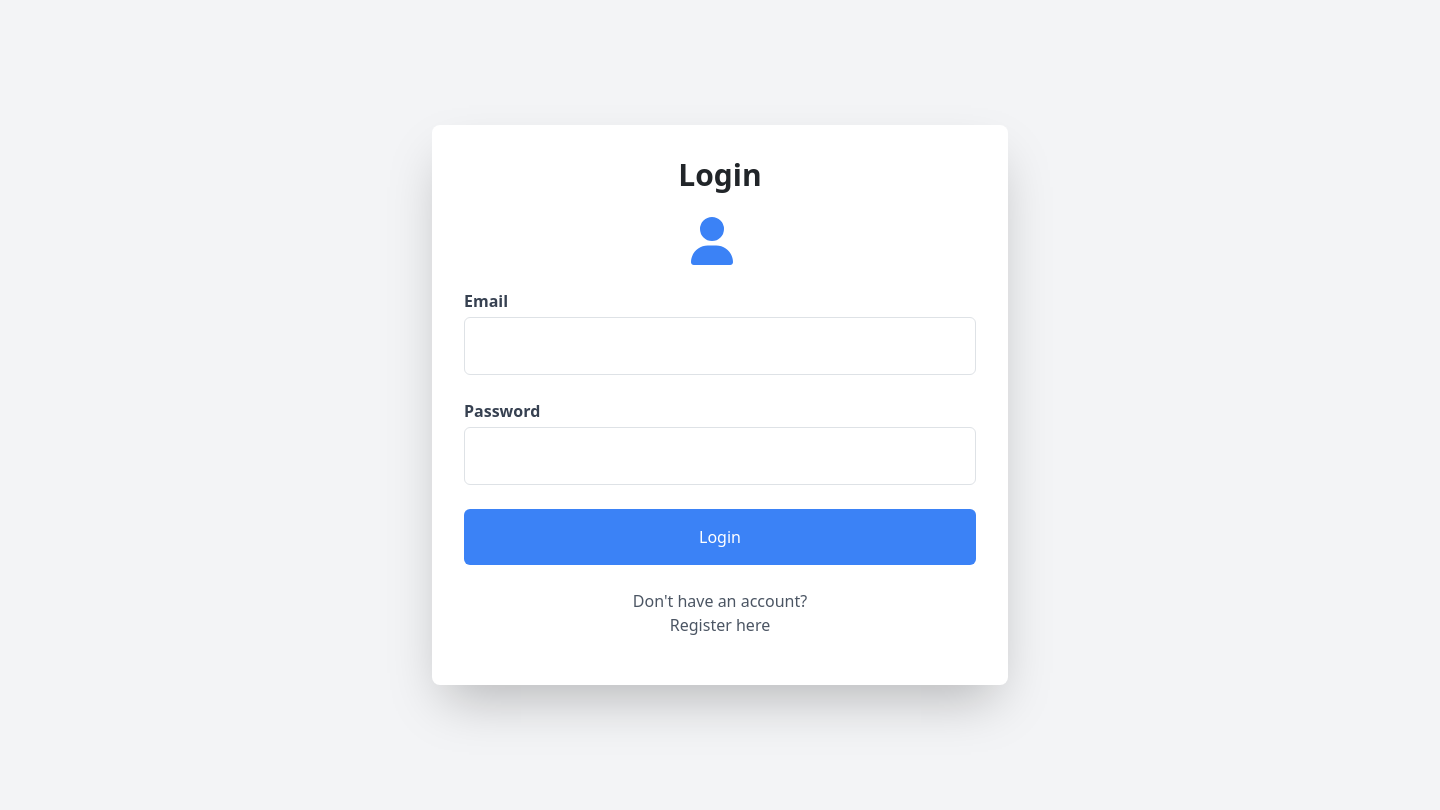
Test: Tests for Login component › it should log in the user and display the success modal on successful login
Type "test@example.com" into the field labelled "Email" at [720, 346], box x1=464 y1=317 x2=976 y2=375
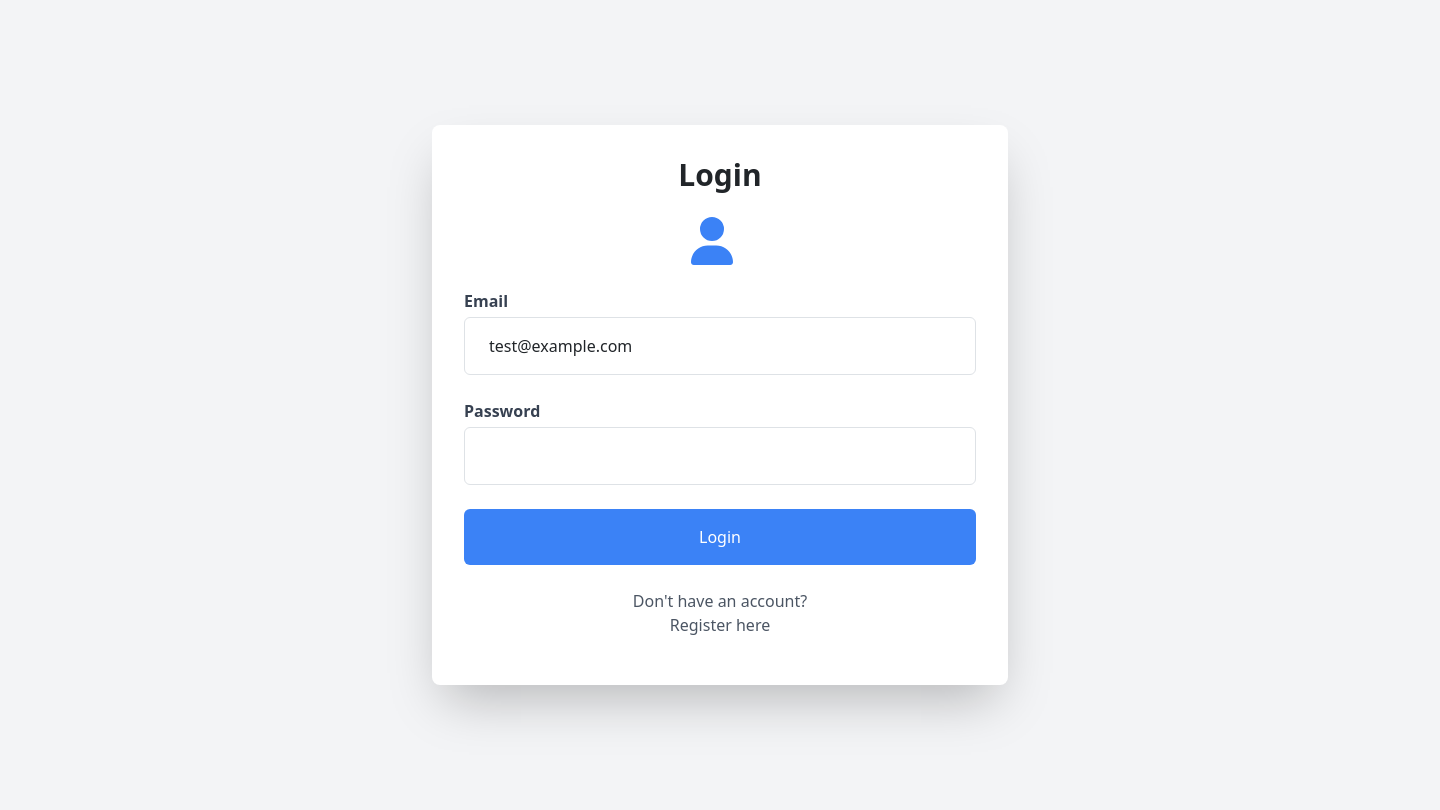
Type "password" into the password field labelled "Password" at [720, 456], box x1=464 y1=427 x2=976 y2=485
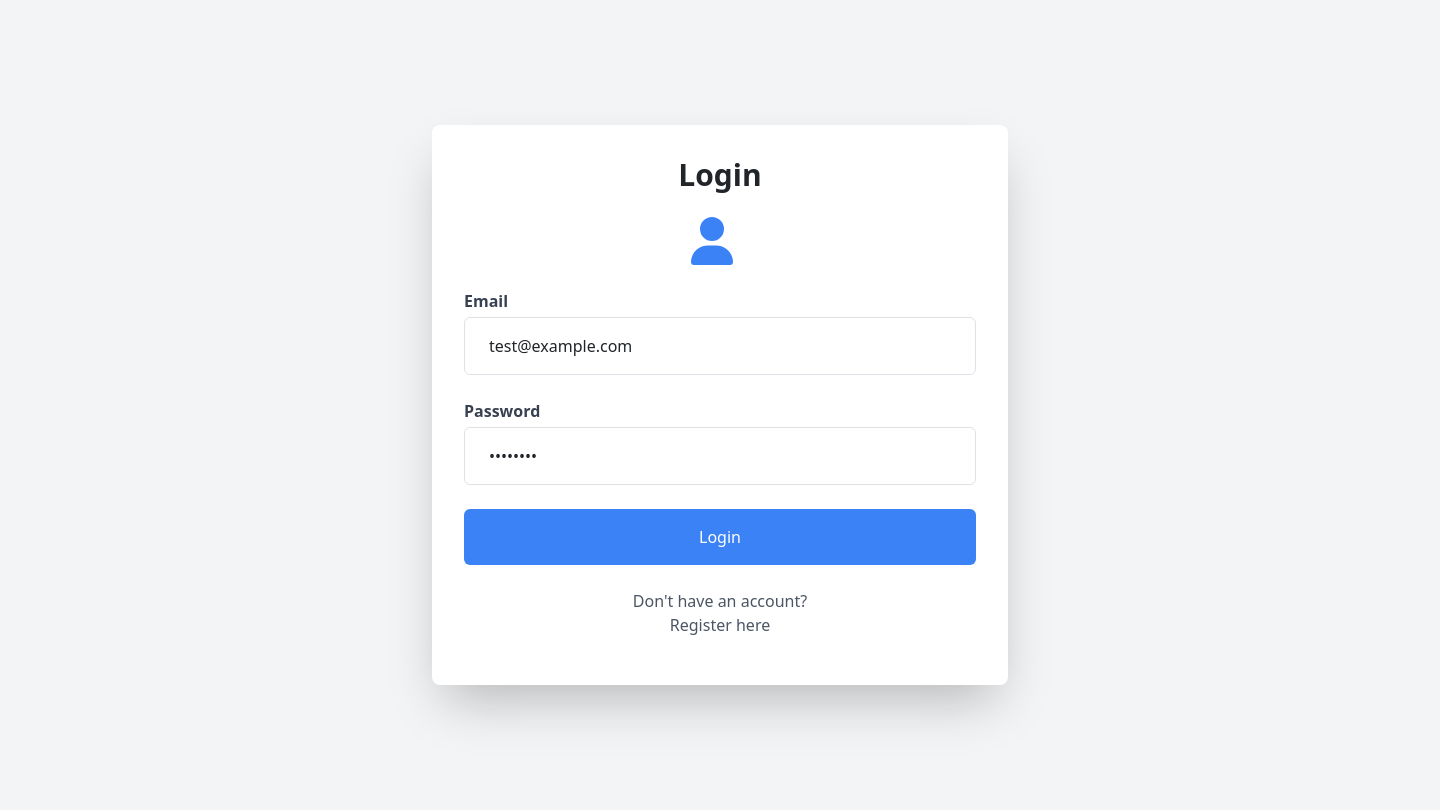
Click the button "Login" at [720, 537], box x1=464 y1=509 x2=976 y2=565
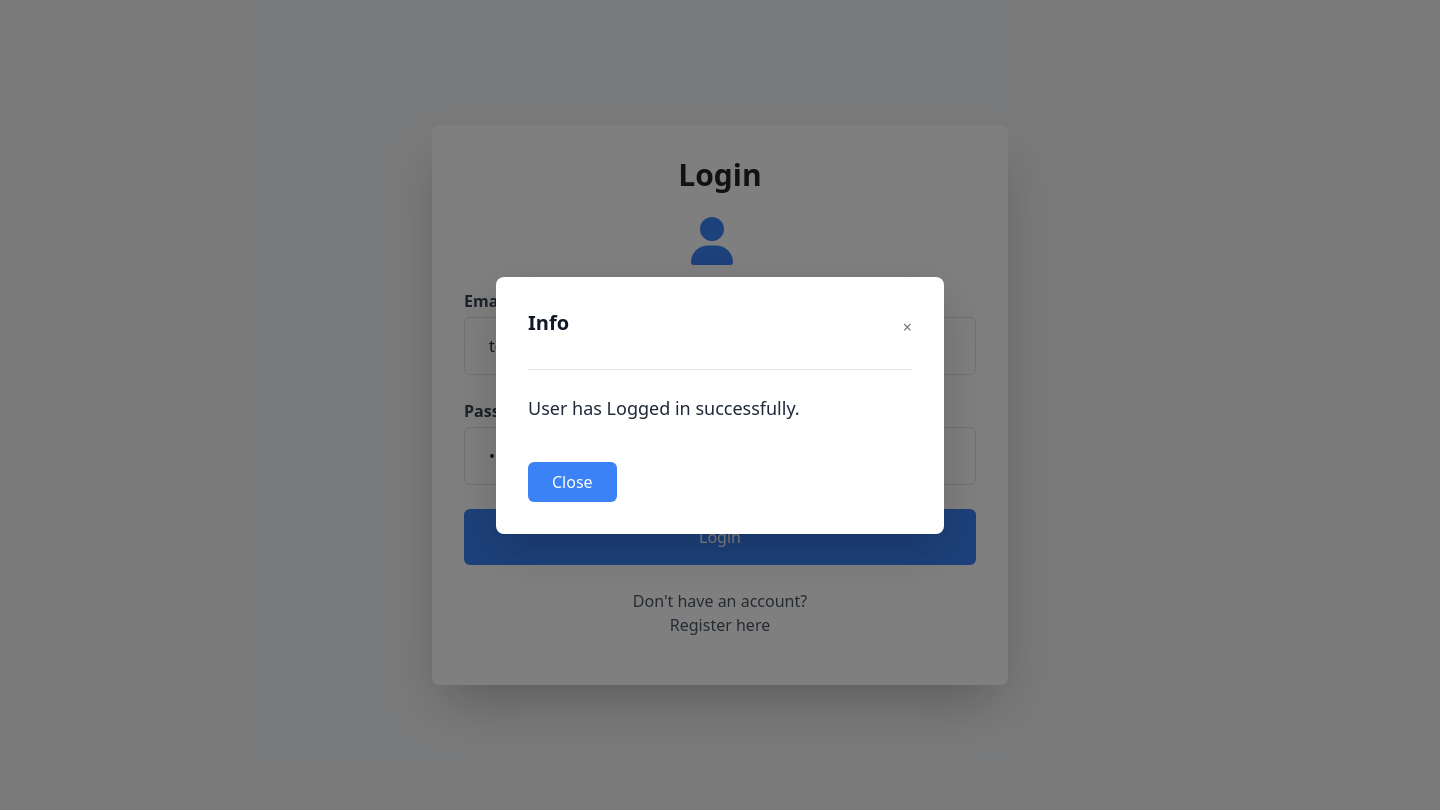
Result: the text "User has Logged in successfully." is shown at x1=528 y1=396 x2=800 y2=420
